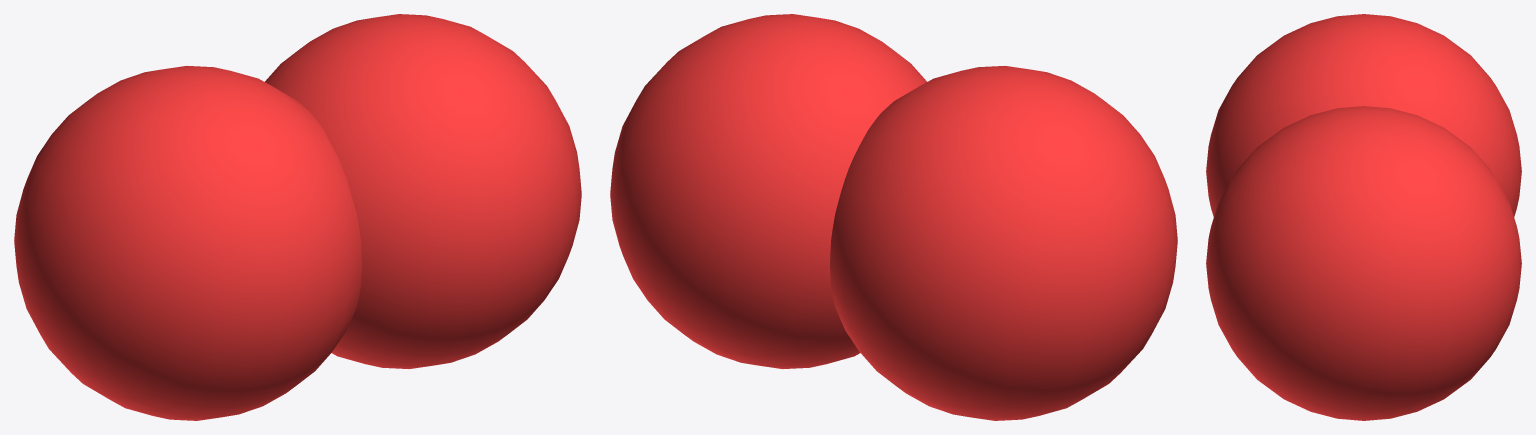
The model's file is 08_O2_CKP.fbx.
The picture shows the model from 3 angles, left to right: view 1: azimuth 30°, elevation 25°; view 2: azimuth 150°, elevation 25°; view 3: azimuth 270°, elevation 25°; orthographic projection. The views are drawn at different scales.
Visible parts, largest first — view 1: O.003, O.004; view 2: O.003, O.004; view 3: O.004, O.003.
Part boxes in pixels (x1,y1,x2,y2): O.003: [14, 66, 361, 420]; O.004: [265, 14, 581, 368]; O.003: [830, 66, 1177, 420]; O.004: [610, 14, 926, 368]; O.004: [1206, 106, 1521, 420]; O.003: [1206, 14, 1521, 216].
Size of the model in its own units: 296 by 175 by 175.
